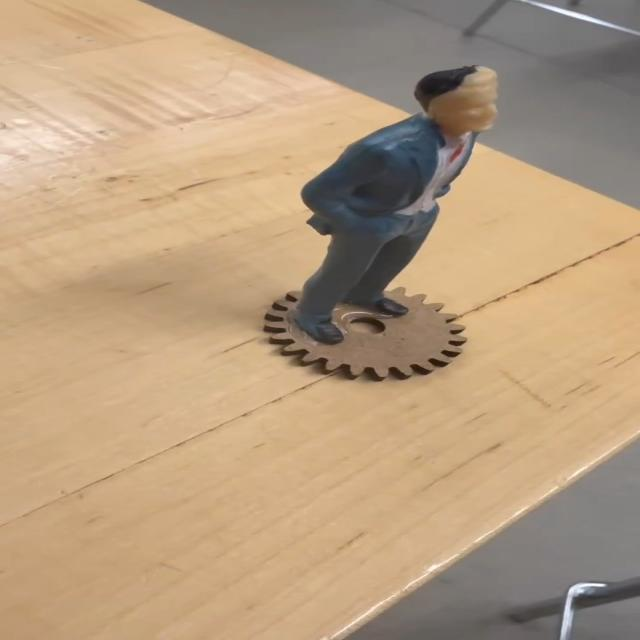Authorized: (276, 55, 522, 341)
